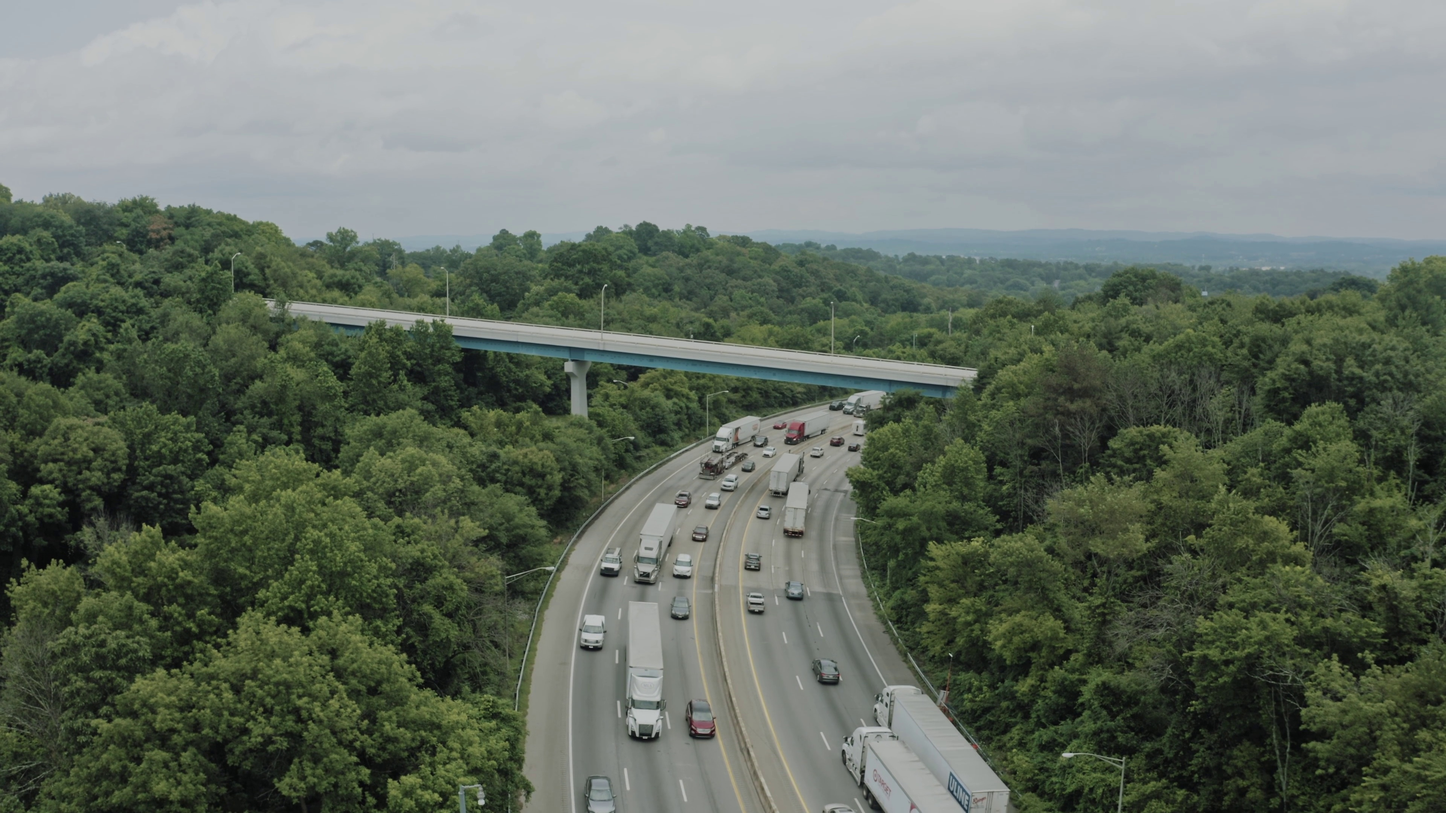Vehicle: (841, 726, 898, 788), (624, 675, 667, 740), (872, 685, 928, 729), (584, 775, 617, 813), (685, 699, 716, 739), (633, 538, 659, 584), (579, 614, 607, 650), (812, 658, 841, 684), (698, 455, 725, 480), (600, 548, 623, 577), (711, 426, 735, 453), (784, 419, 808, 445), (673, 553, 693, 579), (670, 596, 691, 620), (746, 592, 765, 613), (789, 452, 810, 471), (842, 394, 861, 415), (784, 581, 804, 600), (822, 803, 857, 813), (744, 553, 762, 571), (674, 490, 692, 508), (720, 474, 739, 491), (692, 524, 709, 542), (705, 492, 722, 509), (851, 420, 867, 436), (756, 505, 772, 519), (853, 405, 868, 418), (741, 460, 756, 472), (753, 435, 768, 447), (810, 446, 824, 458), (830, 436, 845, 447), (829, 401, 845, 411), (773, 420, 787, 430), (848, 443, 861, 452), (771, 446, 777, 457)
